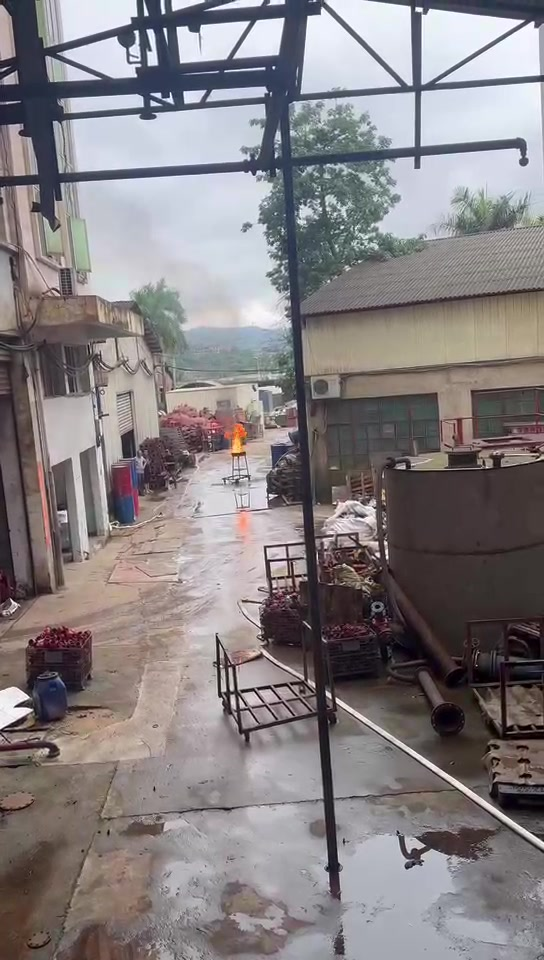fire: (223, 422, 246, 452)
